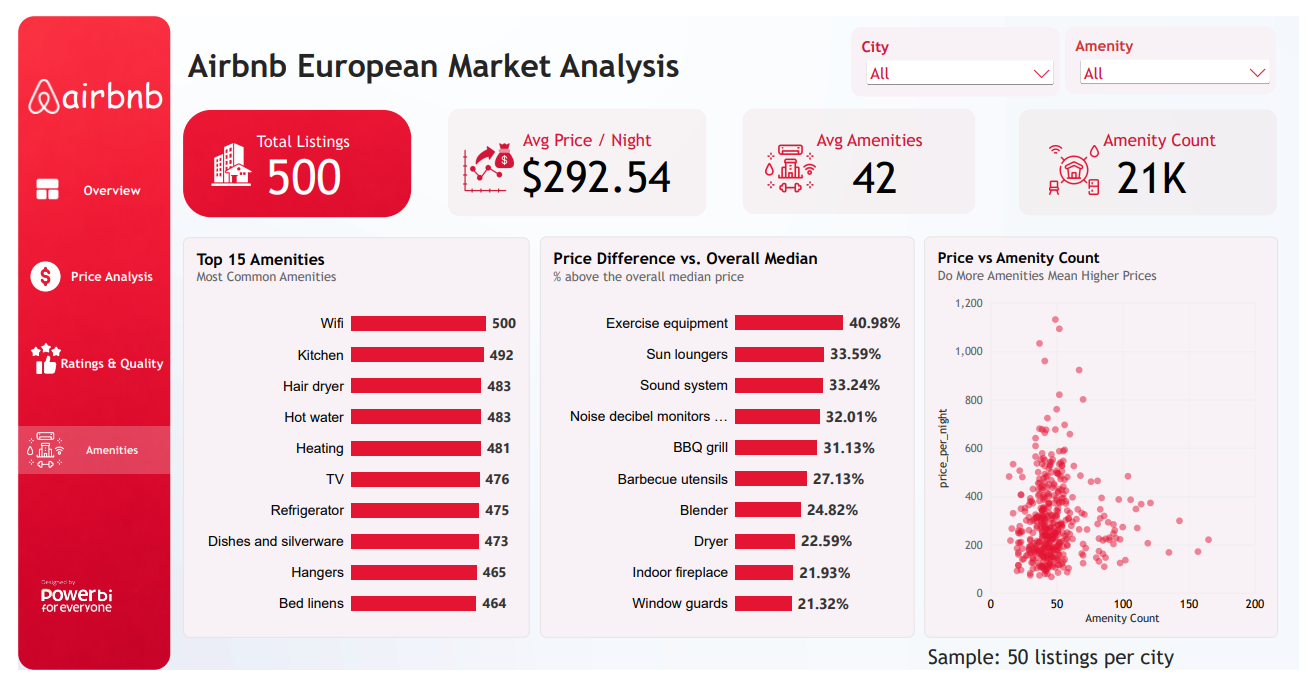

This screenshot's page, from the dashboard's own definition file:
{"tool":"powerbi","page":{"name":"Amenities","canvas":[1600,816],"ordinal":3},"visuals":[{"type":"image","box":[0,0,189.5,816],"z":0},{"type":"image","box":[205.6,117.2,285.9,133.3],"z":1000},{"type":"cardVisual","fields":{"Data":["_Measures.Listings Count"]},"box":[294.4,157.9,164.9,84.6],"z":2000},{"type":"textbox","title":"Airbnb European Market Analysis","box":[211.6,37.8,641.7,46.5],"z":3000},{"type":"textbox","title":"Total Listings","box":[297.6,143.8,206.5,22.4],"z":4000},{"type":"image","box":[239.3,143.4,55,84.6],"z":5000},{"type":"shape","box":[536.8,114.5,323.4,135.9],"z":6000},{"type":"cardVisual","fields":{"Data":["_Measures.Avg Price"]},"box":[612.5,169.6,224.9,61],"z":7000},{"type":"textbox","title":"Avg Price / Night","box":[631.4,142,206.5,27.5],"z":8000},{"type":"image","box":[536.8,157.5,99.8,63.7],"z":9000},{"type":"shape","box":[18.9,197.9,33.9,33.5],"z":9000,"group":"g1"},{"type":"image","box":[22.8,200.5,26.8,28.4],"z":9500,"group":"g1"},{"type":"image","box":[10.6,76.1,42.3,46.5],"z":10000},{"type":"image","box":[29.1,681.7,87.4,82.1],"z":11000},{"type":"textbox","title":"airbnb","box":[55.1,67.7,148,66.1],"z":12000},{"type":"shape","box":[904.9,114.5,290.8,132.5],"z":13000},{"type":"cardVisual","fields":{"Data":["_Measures.Avg Amenities per Listing"]},"box":[1027.1,173,144.4,56.8],"z":14000},{"type":"textbox","title":"Avg Amenities","box":[997.8,142,139.4,29.2],"z":15000},{"type":"image","box":[889.5,159.2,151.4,61.9],"z":16000},{"type":"shape","box":[1250,115.7,322.9,133.3],"z":18000},{"type":"cardVisual","fields":{"Data":["_Measures.Amenity Count"]},"box":[1357.4,162.7,175.4,76.9],"z":19000},{"type":"textbox","title":"Amenity Count","box":[1355.7,142,215.1,27.5],"z":20000},{"type":"image","box":[1243.6,161.2,151,61],"z":21000},{"type":"slicer","title":"City","fields":{"Values":["GOLD fact_listings.city"]},"box":[1040.9,14.5,260.2,85.1],"z":22000},{"type":"clusteredBarChart","title":"Top 15 Amenities","fields":{"Category":["GOLD dim_amenity.amenity_name"],"Y":["_Measures.Amenity Listings"]},"box":[206.1,275.9,433.3,499.8],"z":23000},{"type":"barChart","title":"Price Difference vs. Overall Median","fields":{"Category":["GOLD dim_amenity.amenity_name"],"Y":["_Measures.Premium (Min 20 Listings)"]},"box":[652,275.3,468,500.6],"z":24000},{"type":"slicer","title":"Amenity","fields":{"Values":["GOLD dim_amenity.amenity_name"]},"box":[1307.9,13,262.9,84.4],"z":25000},{"type":"textbox","title":"Sample: 50 listings per city","box":[1137.2,784.5,395.1,30.5],"z":27000},{"type":"scatterChart","title":"Price vs Amenity Count","fields":{"X":["_Measures.Amenity Count"],"Y":["GOLD fact_listings.price_per_night"]},"box":[1132,275.3,442.2,500.6],"z":34000},{"type":"group","id":"g1","title":"Group 1","box":[18.9,197.9,35.7,34.4],"z":34001},{"type":"image","box":[14.9,408.9,38.7,37.2],"z":34002},{"type":"pageNavigator","box":[26.8,168,181.4,425.3],"z":34003},{"type":"shape","box":[0,511.5,190.3,59.5],"z":34004},{"type":"image","box":[11.4,512.4,45.7,59],"z":34005},{"type":"image","box":[13.4,304.8,41.6,40.1],"z":34006}]}

Visuals, with their boxes in screenshot pixels (x1, y1, x2, y2), scaled from the page's 1600x816 canvas onto the 1316x687 screenshot:
image: bbox=[0, 0, 156, 686]
image: bbox=[169, 99, 404, 211]
cardVisual - _Measures.Listings Count: bbox=[242, 133, 378, 204]
"Airbnb European Market Analysis" textbox: bbox=[174, 32, 702, 71]
"Total Listings" textbox: bbox=[245, 121, 415, 140]
image: bbox=[197, 121, 242, 192]
shape: bbox=[442, 96, 708, 211]
cardVisual - _Measures.Avg Price: bbox=[504, 143, 689, 194]
"Avg Price / Night" textbox: bbox=[519, 120, 689, 143]
image: bbox=[442, 133, 524, 186]
shape: bbox=[16, 167, 43, 195]
image: bbox=[19, 169, 41, 193]
image: bbox=[9, 64, 44, 103]
image: bbox=[24, 574, 96, 643]
"airbnb" textbox: bbox=[45, 57, 167, 113]
shape: bbox=[744, 96, 983, 208]
cardVisual - _Measures.Avg Amenities per Listing: bbox=[845, 146, 964, 193]
"Avg Amenities" textbox: bbox=[821, 120, 935, 144]
image: bbox=[732, 134, 856, 186]
shape: bbox=[1028, 97, 1294, 210]
cardVisual - _Measures.Amenity Count: bbox=[1116, 137, 1261, 202]
"Amenity Count" textbox: bbox=[1115, 120, 1292, 143]
image: bbox=[1023, 136, 1147, 187]
"City" slicer: bbox=[856, 12, 1070, 84]
"Top 15 Amenities" clusteredBarChart: bbox=[170, 232, 526, 653]
"Price Difference vs. Overall Median" barChart: bbox=[536, 232, 921, 653]
"Amenity" slicer: bbox=[1076, 11, 1292, 82]
"Sample: 50 listings per city" textbox: bbox=[935, 660, 1260, 686]
"Price vs Amenity Count" scatterChart: bbox=[931, 232, 1295, 653]
"Group 1" group: bbox=[16, 167, 45, 196]
image: bbox=[12, 344, 44, 376]
pageNavigator: bbox=[22, 141, 171, 500]
shape: bbox=[0, 431, 157, 481]
image: bbox=[9, 431, 47, 481]
image: bbox=[11, 257, 45, 290]
